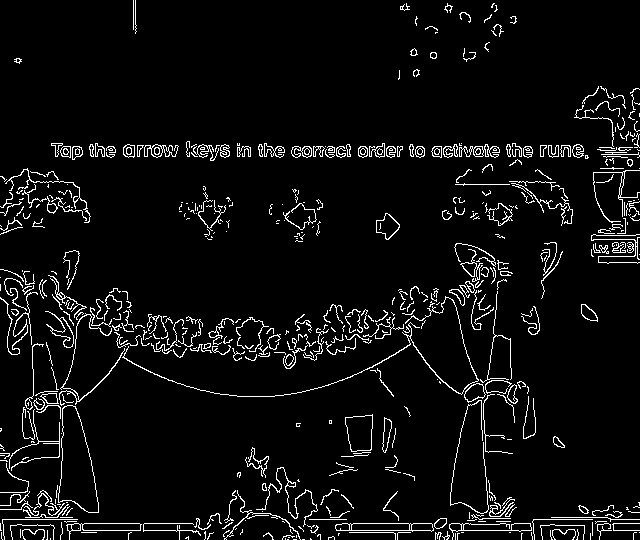down: (192, 193, 228, 236)
left: (275, 196, 324, 236)
right: (366, 208, 407, 249), (482, 196, 519, 233)
